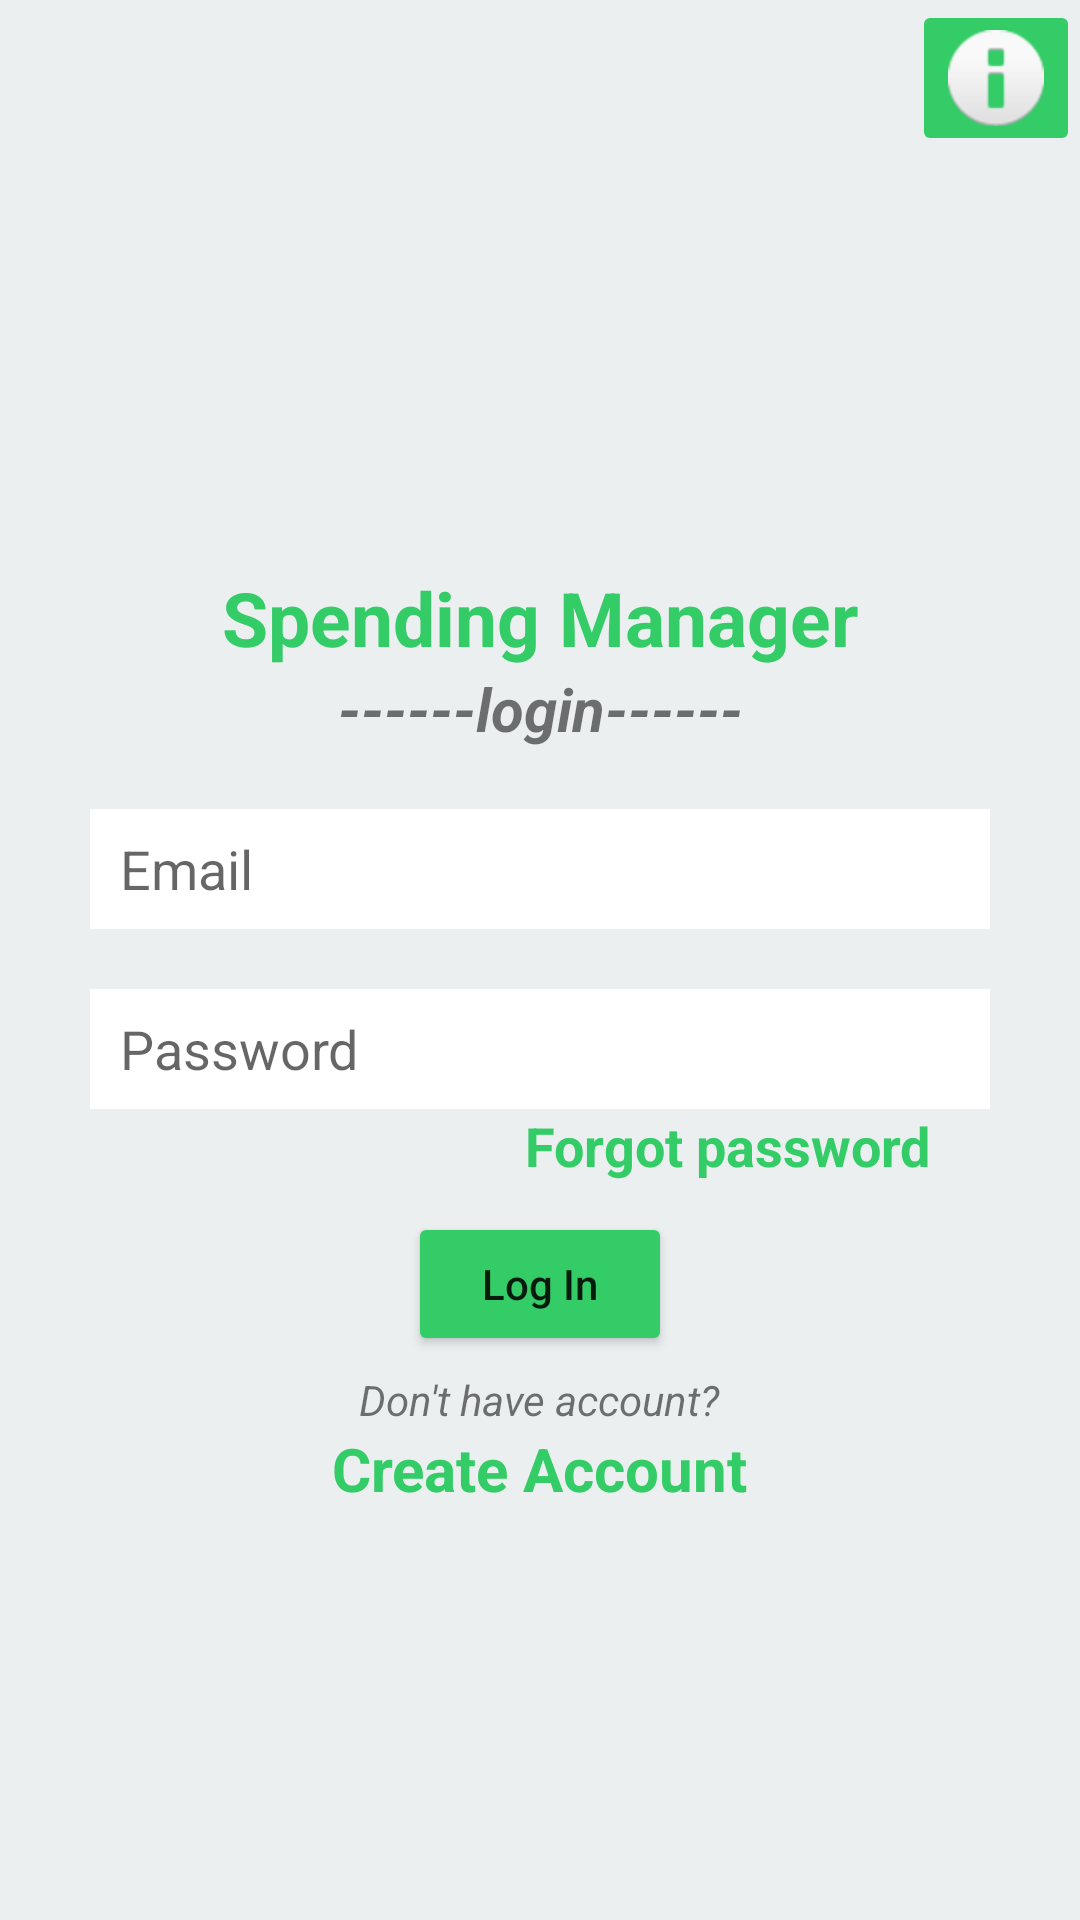

Where to tap for icons on this 1080 x 1920 app screen, as (x=x, y=y):
info: (x=996, y=78)
